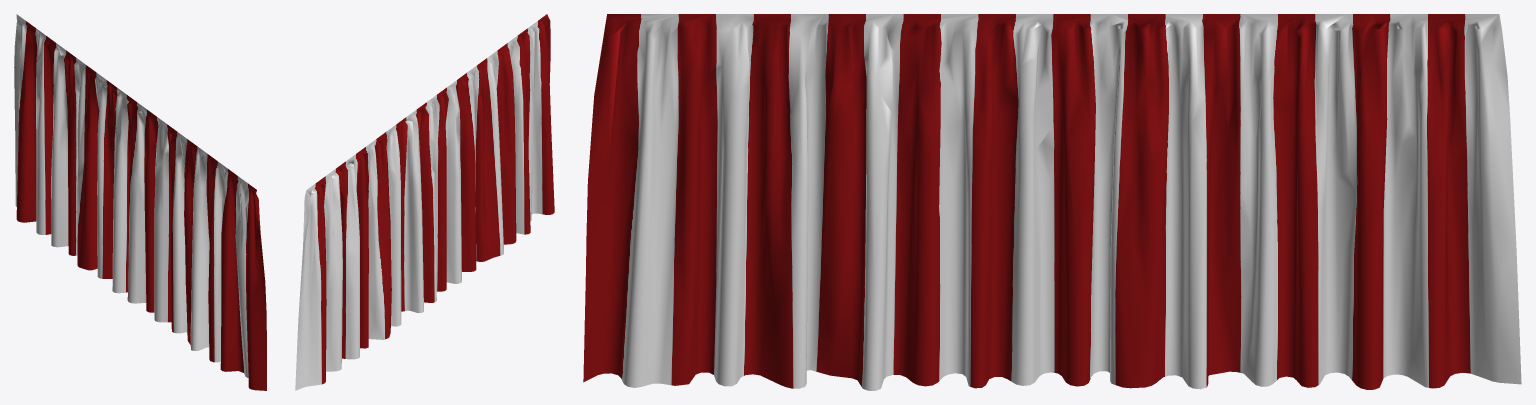
File: bottom.FBX
The picture shows the model from 3 angles, left to right: view 1: azimuth 30°, elevation 25°; view 2: azimuth 150°, elevation 25°; view 3: azimuth 270°, elevation 25°; orthographic projection. The views are drawn at different scales.
Visible parts, largest first — view 1: bottom cloth; view 2: bottom cloth; view 3: bottom cloth.
Part boxes in pixels (bbox=[...]): bottom cloth: bbox=[14, 14, 266, 390]; bottom cloth: bbox=[295, 14, 554, 390]; bottom cloth: bbox=[583, 14, 1521, 390].
Size of the model in its own units: 17.66 by 144 by 333.
